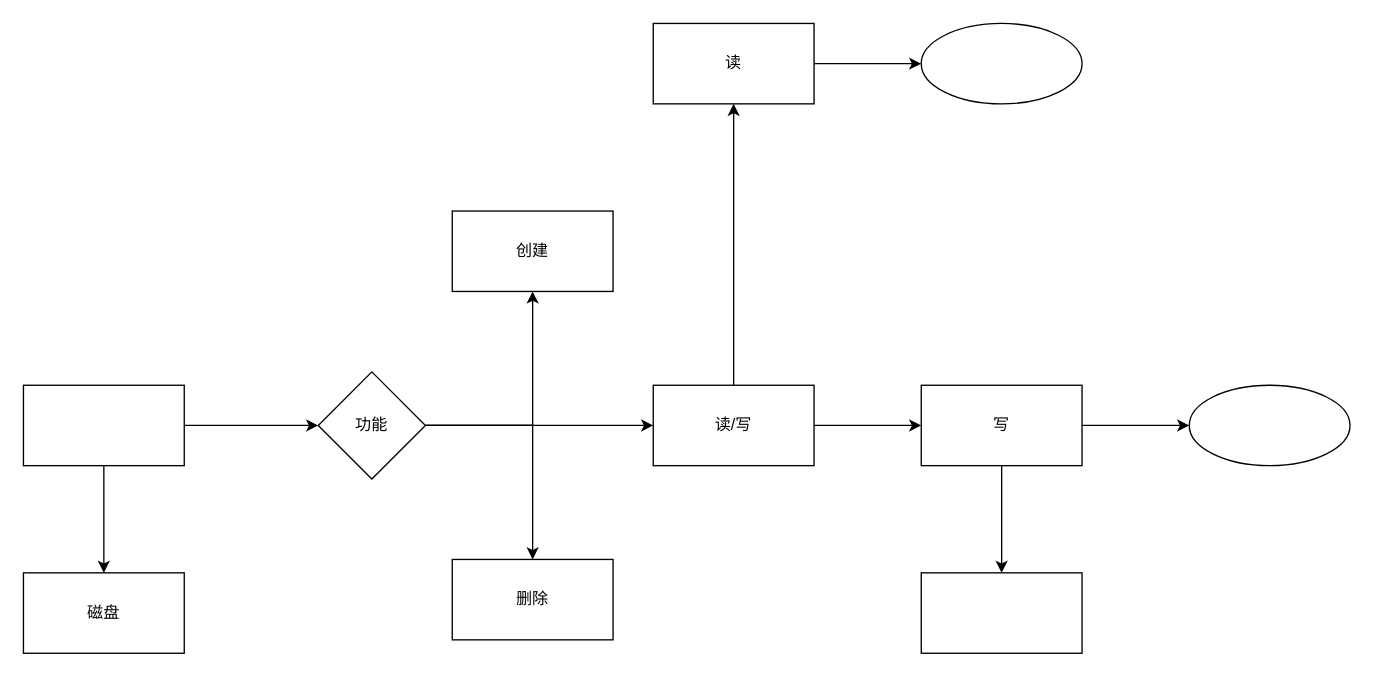
This 1374x677 diagram has some shape labels left out. Here are the shapes that lost their labels. From the top down, the box of each, then its label:
(920, 22, 1082, 104): 分块读取
(22, 384, 184, 466): 文件系统
(1188, 384, 1350, 466): 覆盖
(920, 572, 1082, 653): 文件流字节操作
